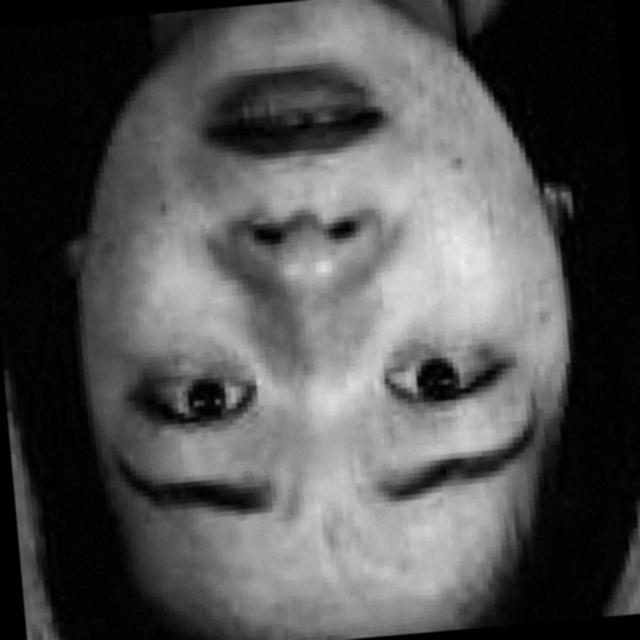fear: (58, 0, 585, 609)
